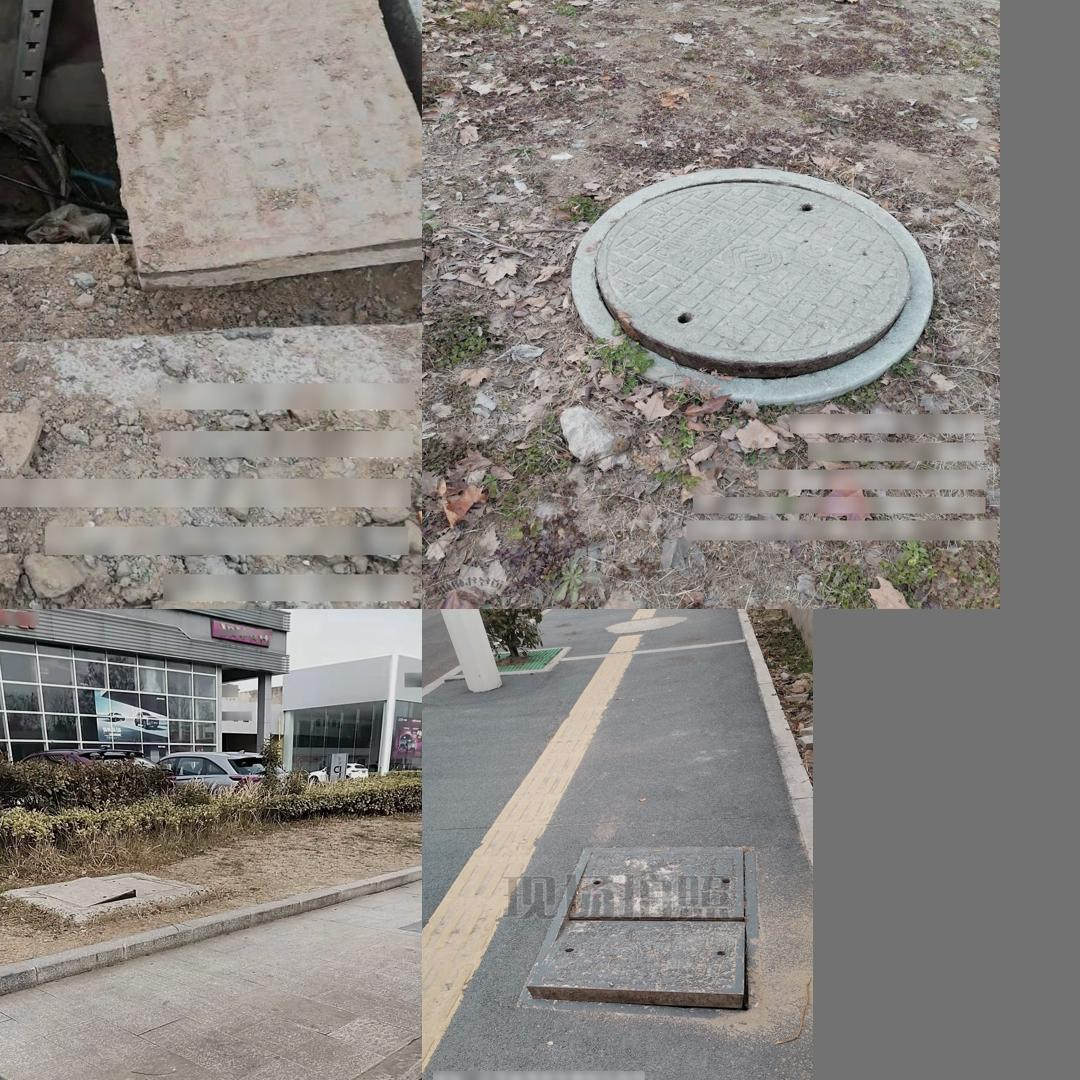uncovered: (0, 0, 421, 336), (568, 167, 930, 403), (513, 846, 766, 1022), (3, 871, 206, 922)
